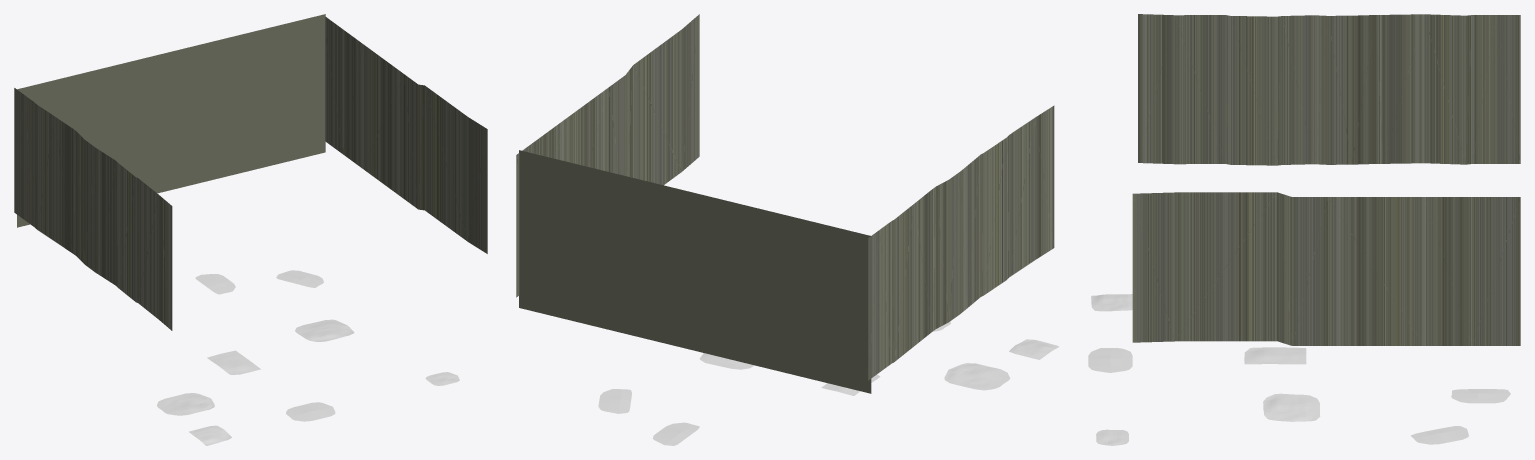
Rendered from SM_WestVillage_water00.fbx.
The picture shows the model from 3 angles, left to right: view 1: azimuth 30°, elevation 25°; view 2: azimuth 150°, elevation 25°; view 3: azimuth 270°, elevation 25°; orthographic projection. The views are drawn at different scales.
Visible parts, largest first — view 1: SM_WestVillage_Block00.001, SM_WestVillage_water00; view 2: SM_WestVillage_Block00.001, SM_WestVillage_water00; view 3: SM_WestVillage_Block00.001, SM_WestVillage_water00.
Part boxes in pixels (left/top/right/bottom): SM_WestVillage_Block00.001: left=14, top=14, right=487, bottom=330; SM_WestVillage_water00: left=157, top=270, right=459, bottom=445; SM_WestVillage_Block00.001: left=516, top=14, right=1054, bottom=393; SM_WestVillage_water00: left=598, top=321, right=1059, bottom=445; SM_WestVillage_Block00.001: left=1132, top=14, right=1520, bottom=345; SM_WestVillage_water00: left=1088, top=294, right=1510, bottom=445.
Size of the model in its own units: 3851 by 2719 by 3864.
